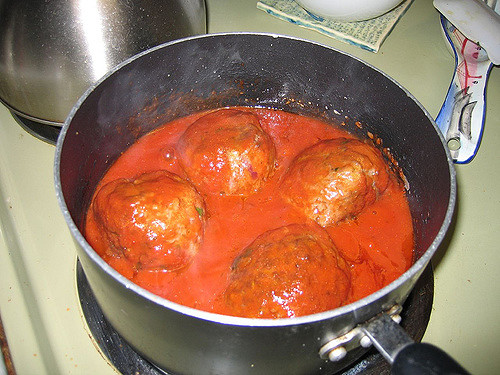meatballs: (284, 142, 388, 226), (107, 174, 201, 259), (172, 112, 274, 187), (252, 227, 341, 307)
